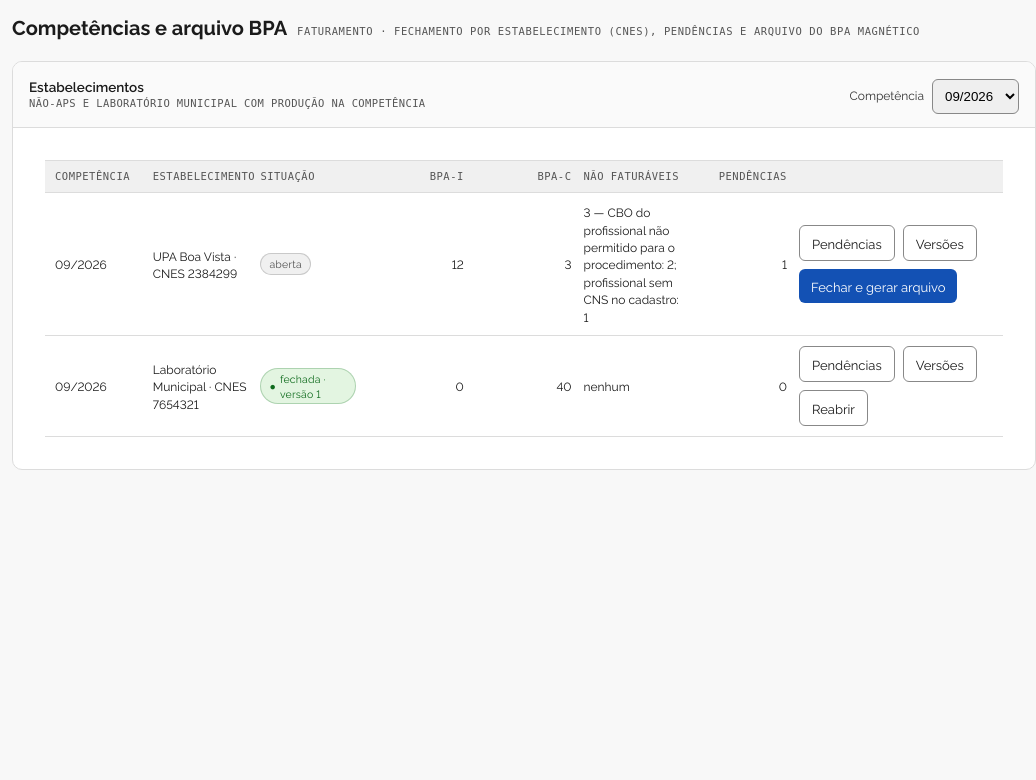
BillingPeriods — fechamento, reabertura e arquivo › 409 invalid_transition (outra pessoa fechou antes): frase e a lista relê
Click the button "Fechar e gerar arquivo": [878, 286] box [799, 269, 957, 303]
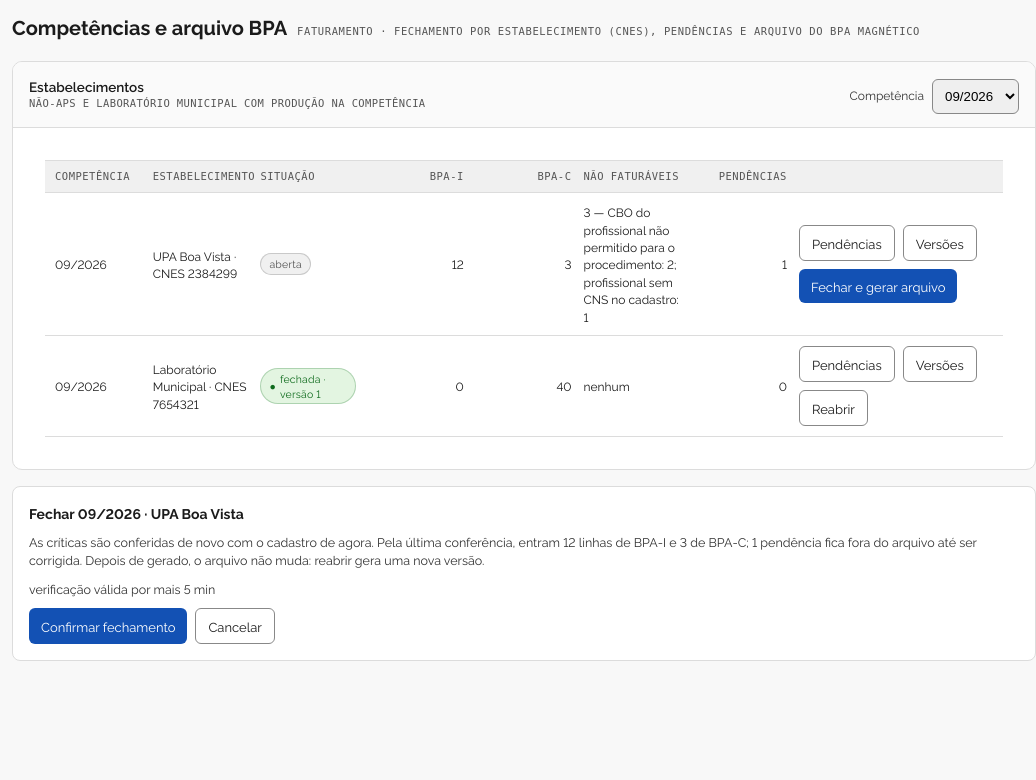
Click the button "Confirmar fechamento": [108, 626] box [29, 608, 187, 644]
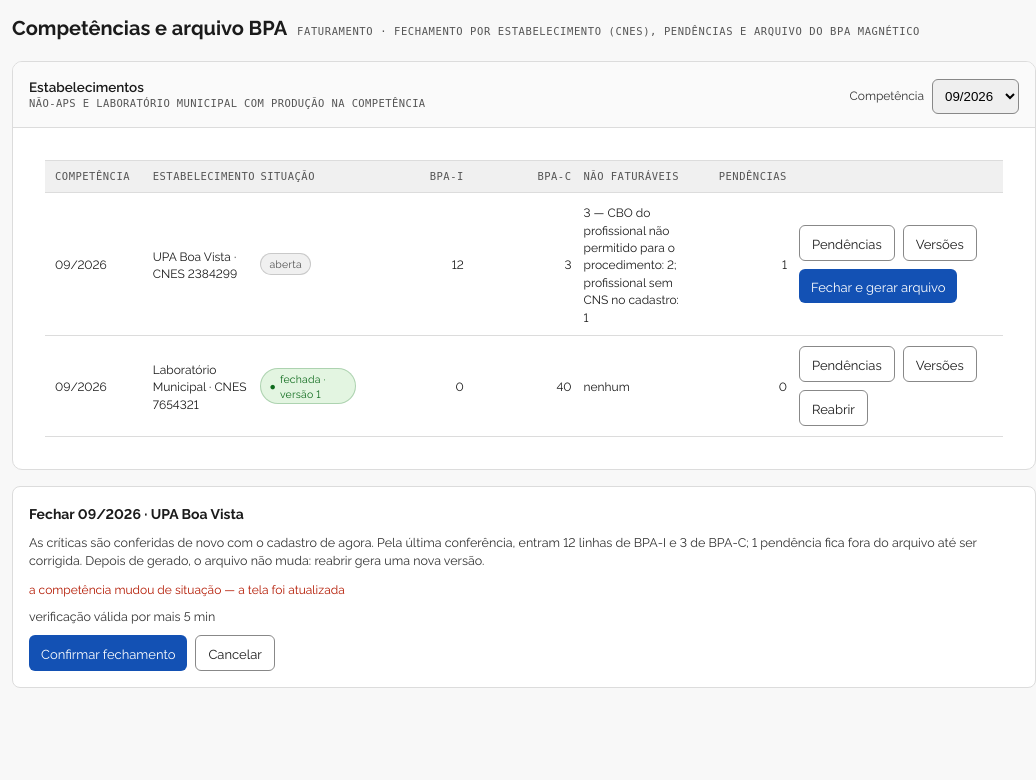
Now the message reads "a competência mudou de situação — a tela foi atualizada", box [29, 580, 345, 596]
